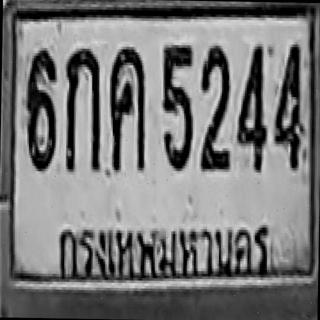A01: (64, 46, 102, 172)
A04: (108, 44, 147, 170)
N02: (199, 44, 232, 170)
N04: (236, 42, 268, 171), (273, 42, 303, 169)
N05: (160, 42, 194, 171)
N06: (24, 47, 57, 172)
P04: (52, 212, 278, 296)
